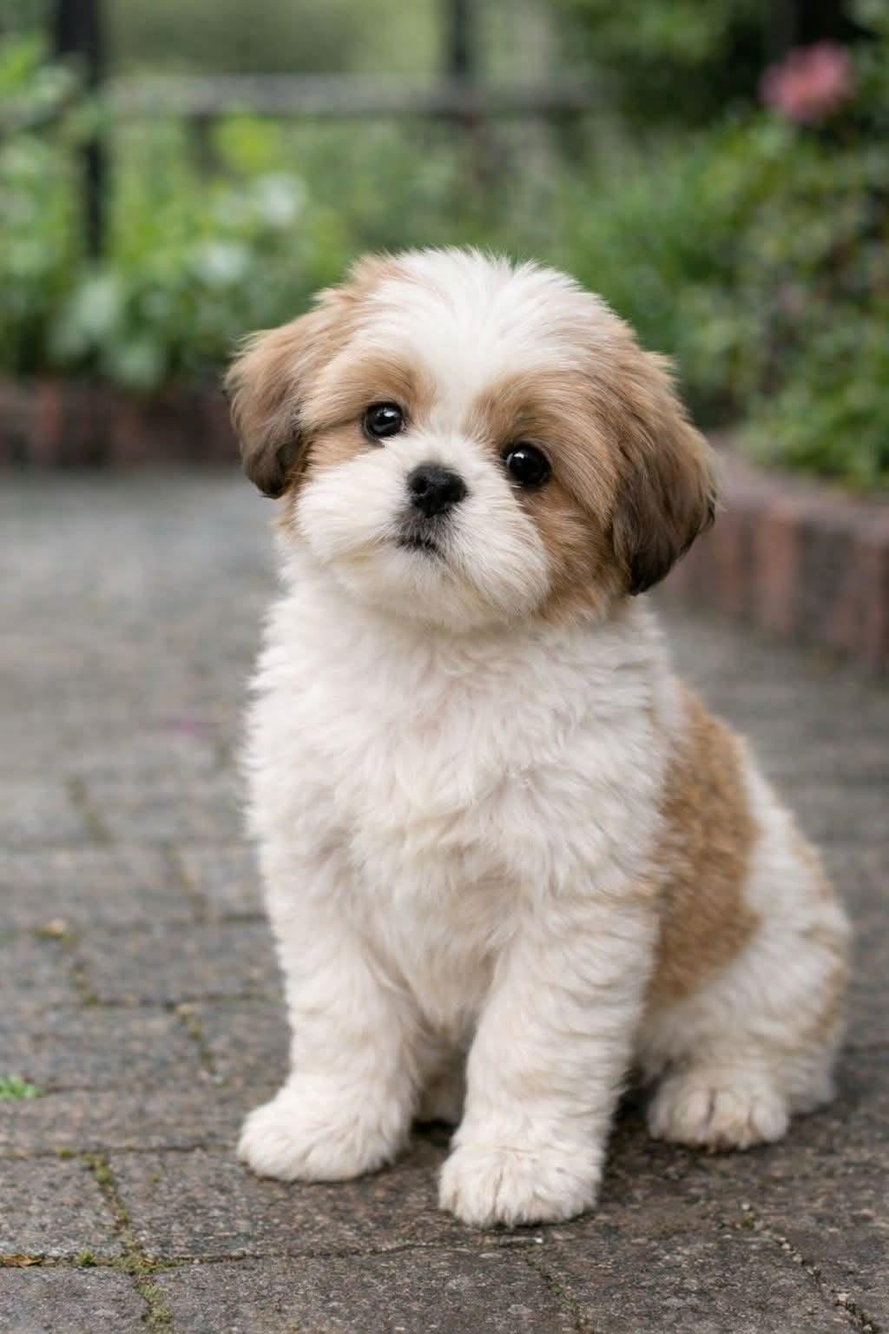puppy-dog: (219, 243, 858, 1230)
